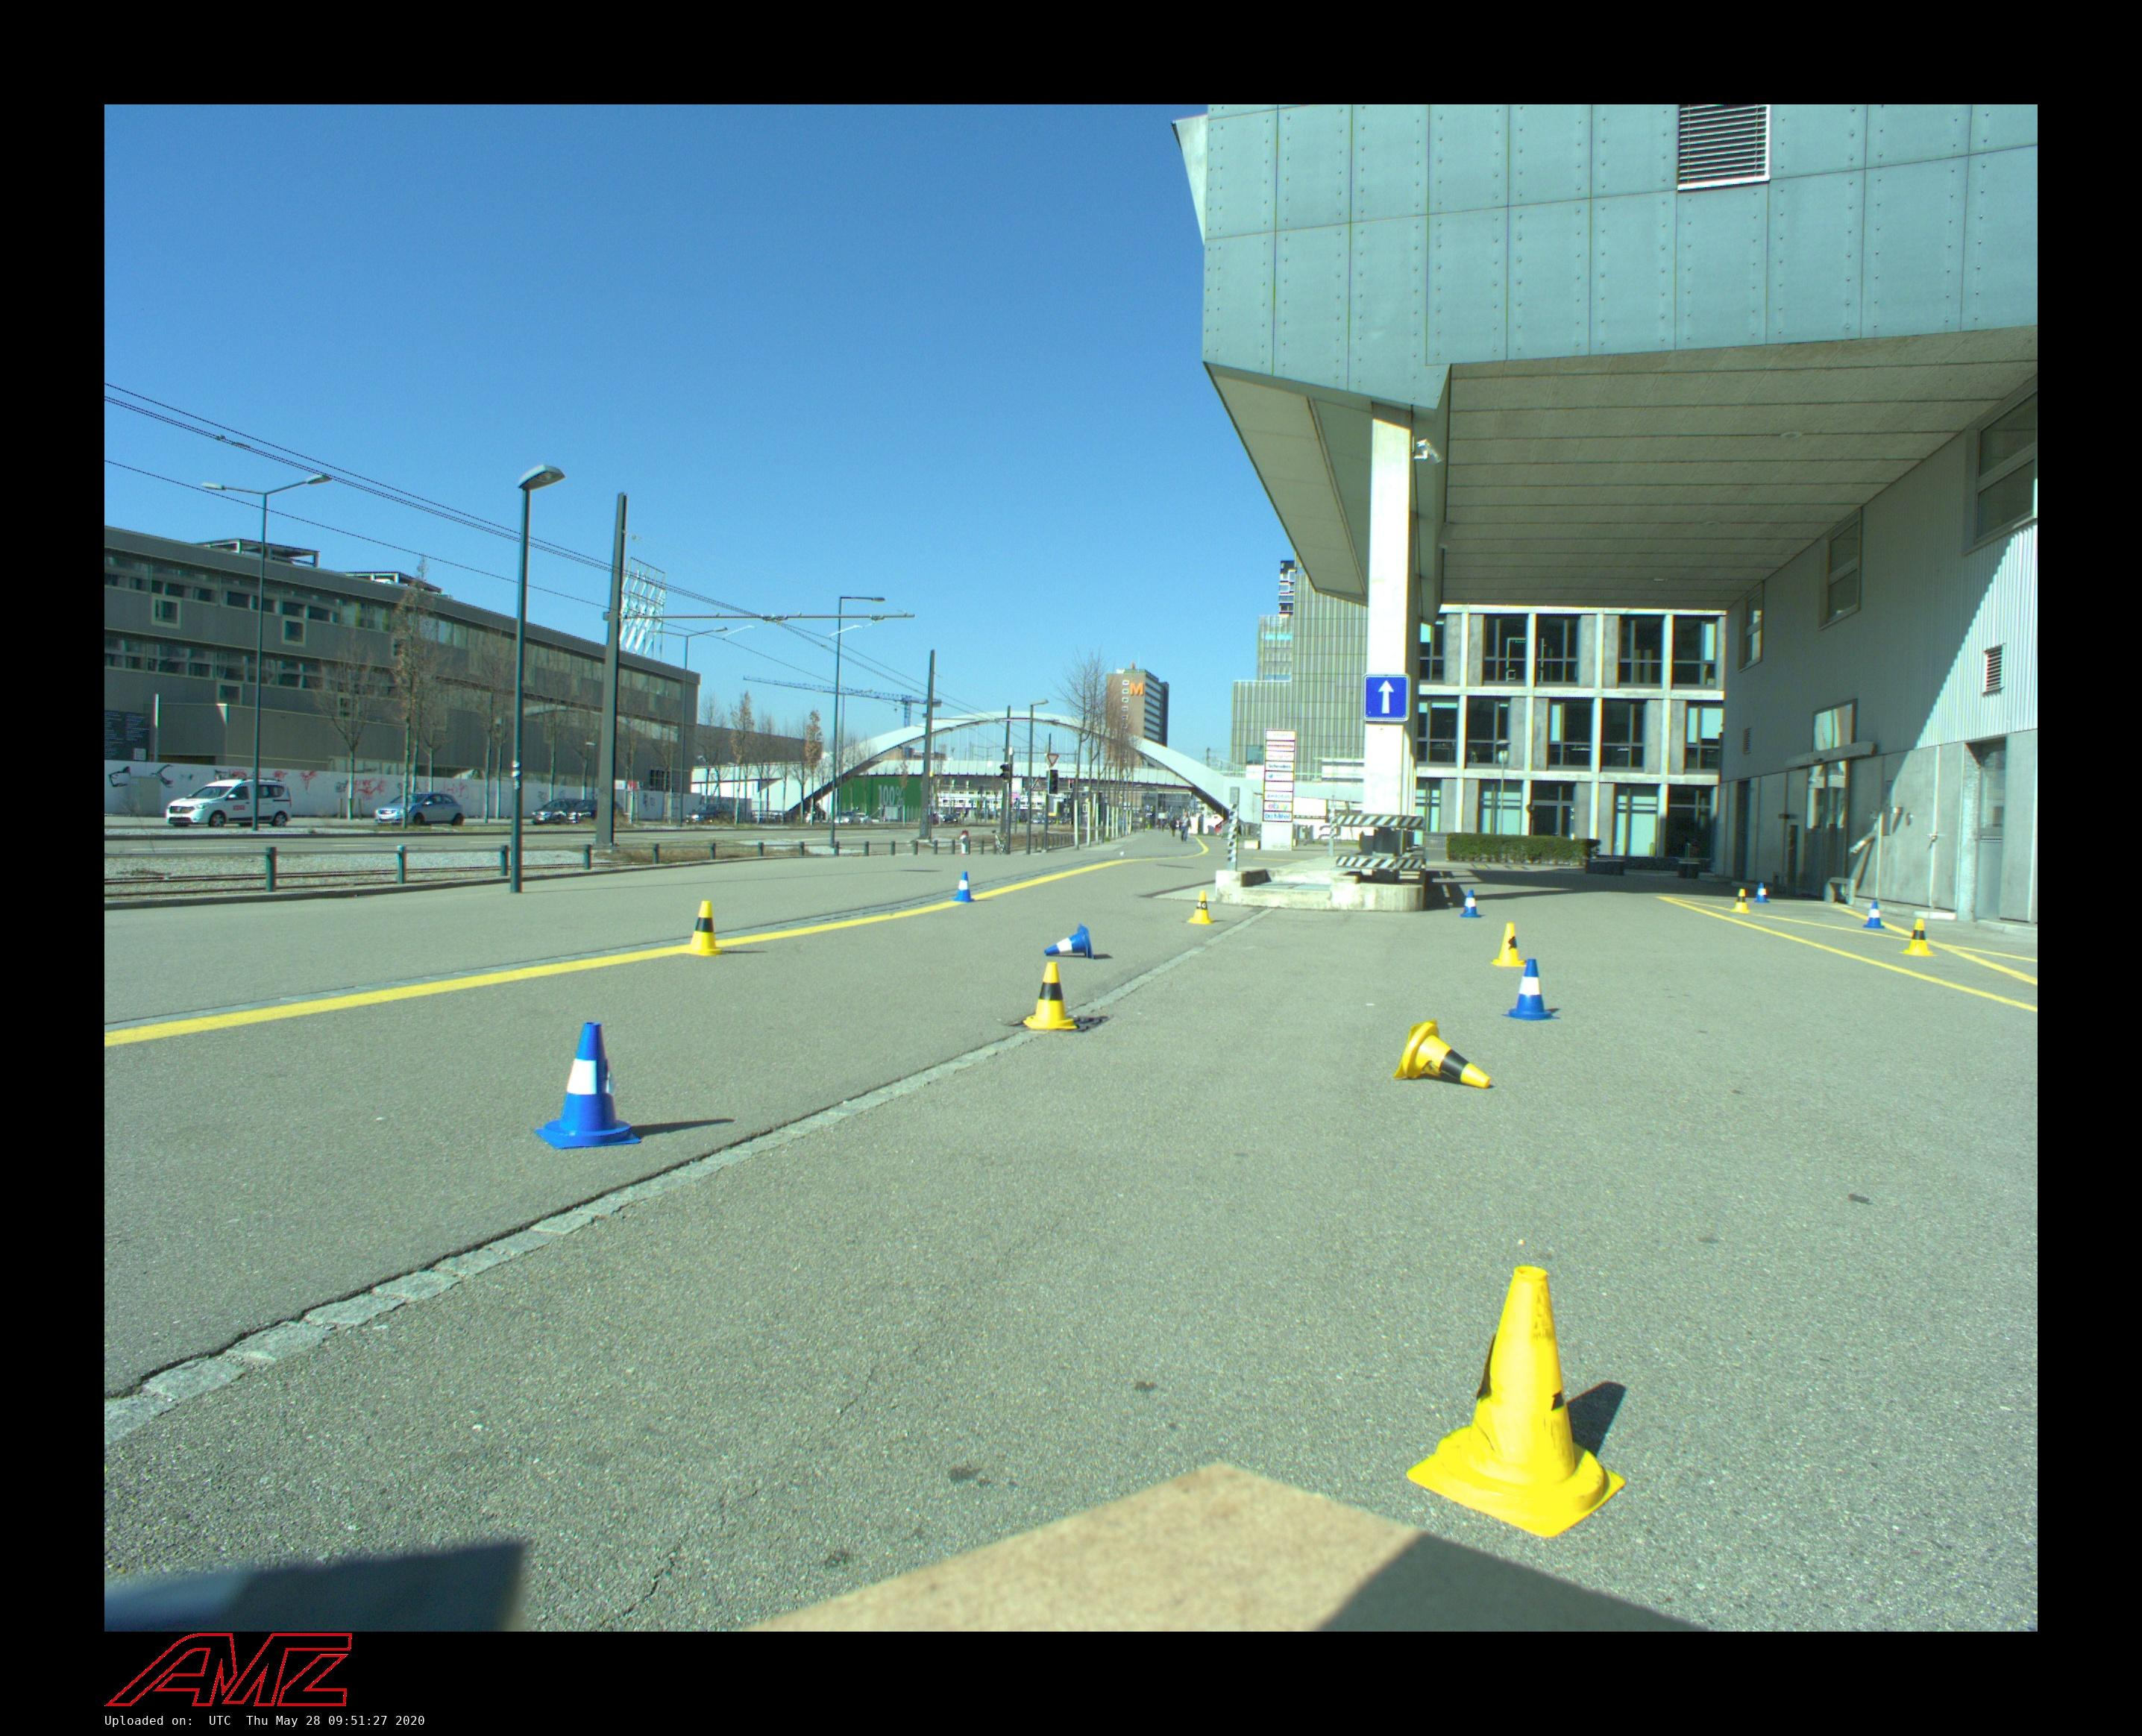blue_cone: (534, 1022, 641, 1148), (1501, 959, 1560, 1021), (1044, 923, 1094, 960), (951, 871, 975, 903), (1862, 901, 1886, 929), (1460, 890, 1482, 918), (1754, 882, 1769, 903)
yellow_cone: (1406, 1268, 1627, 1538), (1393, 1019, 1491, 1089), (1023, 962, 1077, 1030), (682, 901, 728, 957), (1490, 922, 1527, 967), (1900, 919, 1938, 956), (1187, 891, 1214, 925), (1731, 889, 1750, 913)
